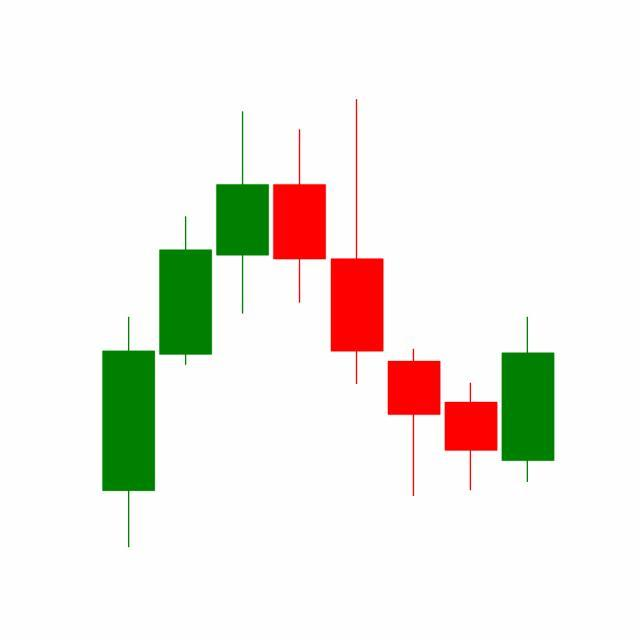Hikkake Pattern: (270, 99, 555, 501)
